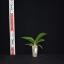leaf: (20, 37, 36, 44), (36, 34, 48, 43), (35, 33, 46, 41), (23, 38, 35, 45), (36, 39, 45, 45), (36, 44, 43, 50), (25, 43, 34, 46), (29, 45, 33, 46)
